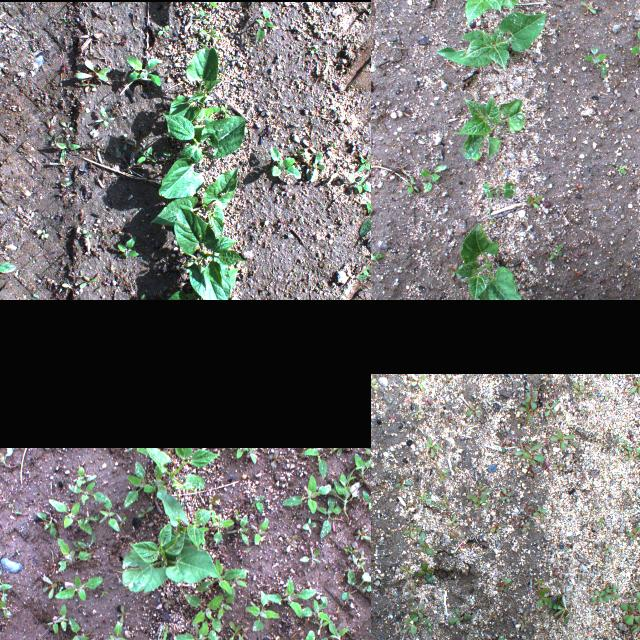crop: (158, 111, 245, 200), (122, 522, 220, 592), (148, 166, 240, 238), (436, 11, 546, 67), (166, 232, 248, 300), (453, 223, 520, 300), (453, 96, 525, 162), (164, 48, 224, 126), (145, 448, 221, 498), (157, 492, 210, 548), (460, 0, 519, 22), (0, 234, 15, 277), (116, 236, 140, 260), (483, 181, 515, 199), (136, 147, 156, 163)
weed: (280, 473, 334, 513), (266, 576, 316, 618), (194, 558, 248, 594), (183, 592, 223, 634), (48, 498, 92, 534), (330, 470, 362, 518), (246, 589, 282, 631), (124, 458, 154, 506), (124, 54, 166, 86), (54, 538, 92, 572), (54, 575, 102, 599), (504, 437, 544, 463), (270, 144, 300, 178), (201, 510, 231, 544), (318, 496, 342, 538), (66, 482, 108, 504), (340, 571, 371, 600), (300, 148, 326, 182), (173, 622, 222, 640), (76, 58, 112, 82), (34, 509, 60, 539), (226, 514, 250, 546), (302, 595, 330, 621), (304, 448, 328, 478), (100, 497, 120, 531), (422, 164, 446, 192), (254, 8, 272, 44), (585, 48, 607, 76), (53, 142, 83, 162), (48, 603, 68, 633), (550, 595, 570, 625), (359, 185, 371, 234), (216, 591, 236, 619), (353, 452, 371, 482), (534, 578, 552, 608), (254, 518, 270, 548), (550, 430, 574, 450), (69, 617, 89, 640), (102, 621, 126, 640), (299, 547, 321, 567), (414, 562, 436, 582), (327, 618, 351, 636), (621, 603, 640, 625), (41, 575, 58, 599), (94, 108, 116, 126), (0, 568, 12, 600), (448, 608, 472, 624), (522, 384, 538, 408), (228, 618, 245, 640), (76, 465, 96, 483), (263, 448, 281, 468), (72, 535, 94, 551), (418, 532, 434, 554), (336, 272, 369, 282), (248, 494, 266, 512), (234, 570, 250, 590), (402, 522, 422, 538), (631, 27, 640, 62), (155, 22, 171, 40), (160, 590, 176, 608), (410, 604, 428, 620), (625, 525, 640, 544), (0, 447, 14, 467), (426, 436, 440, 456), (193, 6, 210, 22), (299, 516, 315, 532), (409, 374, 425, 390), (359, 259, 371, 280), (526, 194, 544, 208), (136, 505, 154, 519), (284, 535, 298, 553), (362, 488, 371, 516), (200, 28, 220, 40), (117, 603, 129, 623), (354, 526, 371, 540), (156, 622, 169, 640), (81, 80, 97, 94), (549, 244, 563, 260), (352, 554, 366, 570), (403, 618, 417, 634), (605, 584, 619, 600), (579, 0, 596, 13), (293, 630, 315, 640), (355, 176, 367, 194), (207, 492, 219, 510), (122, 447, 148, 455), (132, 292, 157, 300), (467, 402, 481, 416), (500, 488, 514, 502), (590, 590, 606, 602), (230, 448, 248, 458), (394, 479, 414, 488), (0, 599, 10, 616), (116, 512, 128, 526), (545, 401, 557, 415), (61, 120, 77, 130), (56, 177, 72, 187), (342, 544, 358, 554), (631, 377, 640, 393), (360, 156, 371, 169), (83, 514, 99, 522), (249, 448, 257, 464), (371, 252, 385, 260), (126, 630, 140, 638), (358, 548, 366, 562), (635, 591, 640, 613), (364, 447, 371, 462), (616, 163, 626, 173), (371, 375, 378, 389), (100, 588, 108, 600), (244, 624, 250, 640), (408, 178, 414, 192), (335, 448, 343, 458), (234, 507, 240, 519), (56, 585, 64, 591)
